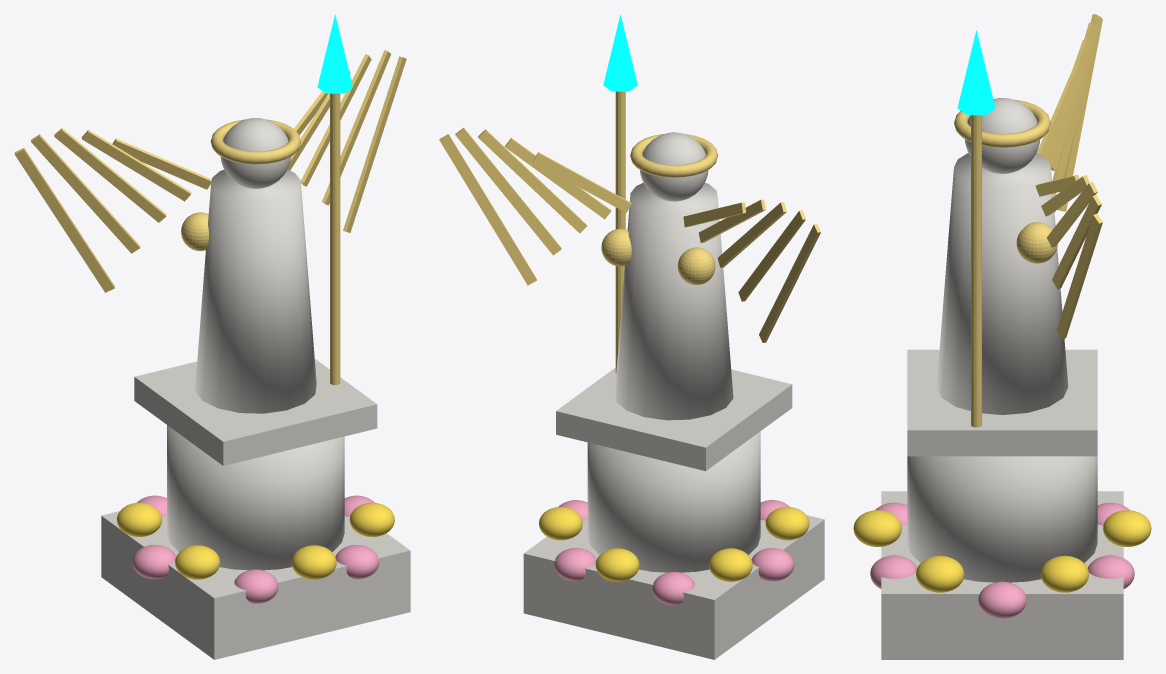
Rendered from statue_automata_athena.glb.
3 renders of one model, left to right at view 1: azimuth 30°, elevation 25°; view 2: azimuth 150°, elevation 25°; view 3: azimuth 270°, elevation 25°, orthographic. The views are drawn at different scales.
Visible parts, largest first — view 1: Cone, Cube, Cylinder, Cube.001, Cylinder.001, Sphere, Cube.006, Cube.005, Torus, Cube.004, Cube.011, Cone.001 (+13 smaller); view 2: Cone, Cube, Cylinder, Cube.001, Sphere, Cube.011, Cylinder.001, Cube.010, Cube.009, Torus, Cone.001, Cube.006 (+15 smaller); view 3: Cone, Cylinder, Cube, Cube.001, Cylinder.001, Sphere, Cone.001, Torus, Cube.011, Sphere.003, Sphere.004, Sphere.006 (+14 smaller).
Boxes of the visible parts, bbox=[...] form: Cone: bbox=[195, 169, 316, 413]; Cube: bbox=[101, 511, 410, 659]; Cylinder: bbox=[167, 425, 344, 570]; Cube.001: bbox=[134, 359, 377, 465]; Cylinder.001: bbox=[330, 93, 340, 384]; Sphere: bbox=[220, 118, 290, 188]; Cube.006: bbox=[14, 148, 114, 292]; Cube.005: bbox=[31, 134, 140, 253]; Torus: bbox=[210, 119, 300, 164]; Cube.004: bbox=[54, 128, 166, 222]; Cube.011: bbox=[343, 56, 406, 232]; Cone.001: bbox=[317, 14, 352, 93]; Cone: bbox=[615, 182, 733, 420]; Cube: bbox=[523, 515, 824, 659]; Cylinder: bbox=[587, 431, 760, 572]; Cube.001: bbox=[556, 367, 792, 470]; Sphere: bbox=[640, 132, 708, 201]; Cube.011: bbox=[439, 134, 536, 285]; Cylinder.001: bbox=[615, 91, 625, 373]; Cube.010: bbox=[455, 127, 561, 255]; Cube.009: bbox=[478, 129, 587, 233]; Torus: bbox=[630, 134, 718, 177]; Cone.001: bbox=[603, 14, 637, 91]; Cube.006: bbox=[759, 224, 820, 342]; Cone: bbox=[936, 153, 1068, 414]; Cylinder: bbox=[907, 456, 1097, 582]; Cube: bbox=[881, 491, 1123, 659]; Cube.001: bbox=[907, 349, 1097, 456]; Cylinder.001: bbox=[971, 115, 981, 427]; Sphere: bbox=[964, 98, 1040, 173]; Cone.001: bbox=[957, 30, 995, 115]; Torus: bbox=[954, 99, 1050, 147]; Cube.011: bbox=[1056, 213, 1102, 339]; Sphere.003: bbox=[978, 581, 1026, 618]; Sphere.004: bbox=[1040, 555, 1088, 592]; Sphere.006: bbox=[1103, 510, 1151, 546].
Size of the model in its own units: 2.8 by 3.91 by 1.72.
